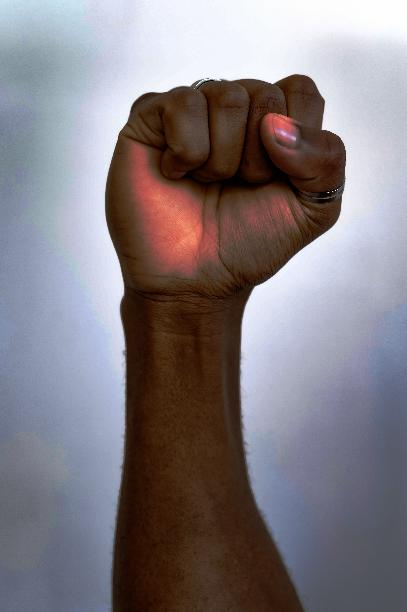Rock: (95, 66, 350, 314)
